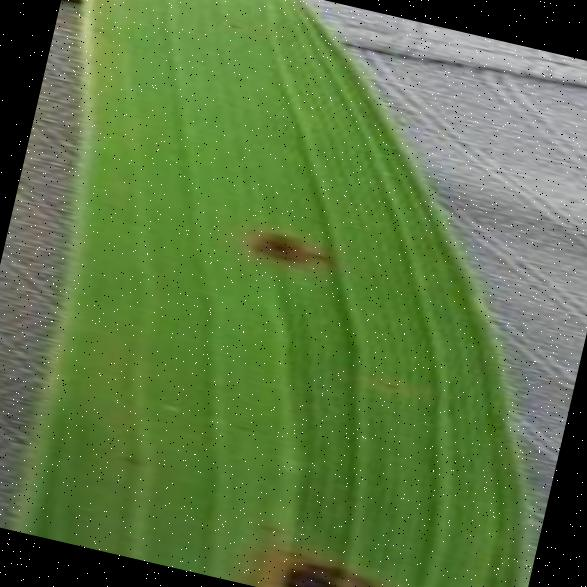Brown_Spot: (231, 208, 348, 284), (307, 547, 386, 587), (264, 553, 348, 587), (109, 441, 155, 475), (222, 410, 260, 442), (366, 368, 404, 398), (215, 8, 250, 36), (249, 515, 287, 538), (274, 540, 310, 564), (80, 16, 111, 39)
